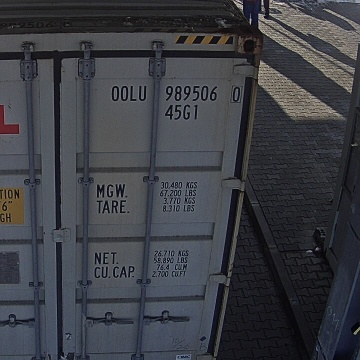serial_id: (111, 85, 241, 101)
